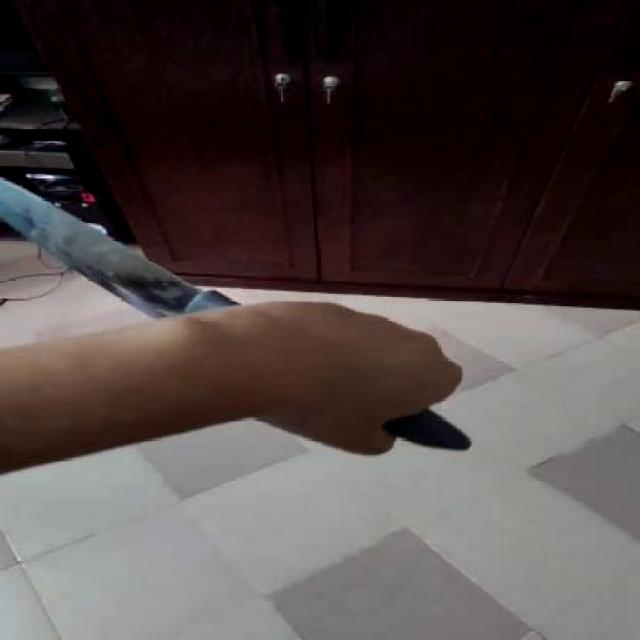knife: (0, 180, 277, 322)
